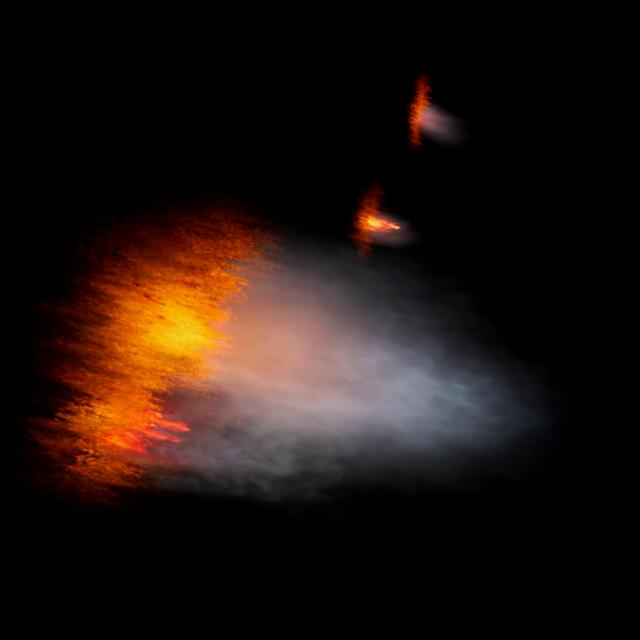fire: (24, 180, 290, 531), (363, 213, 398, 237)
smoke: (117, 210, 595, 592), (371, 212, 418, 256), (416, 102, 460, 146)
